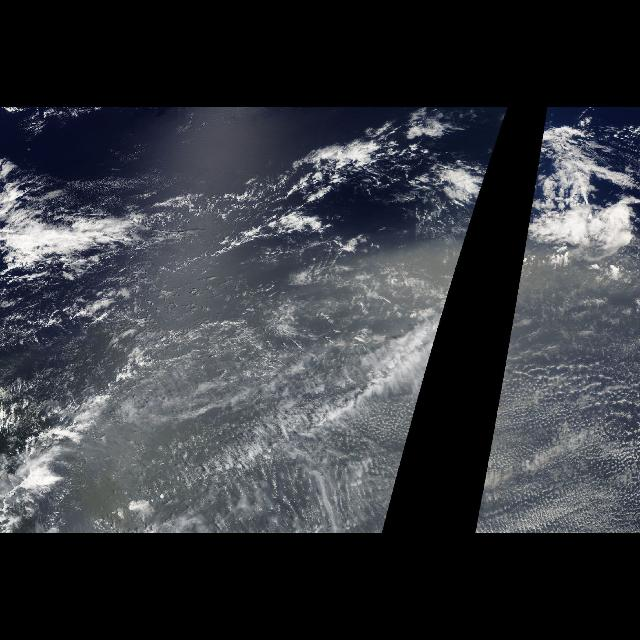Fish: (2, 314, 192, 532)
Sugar: (158, 281, 454, 533), (474, 281, 640, 533)
